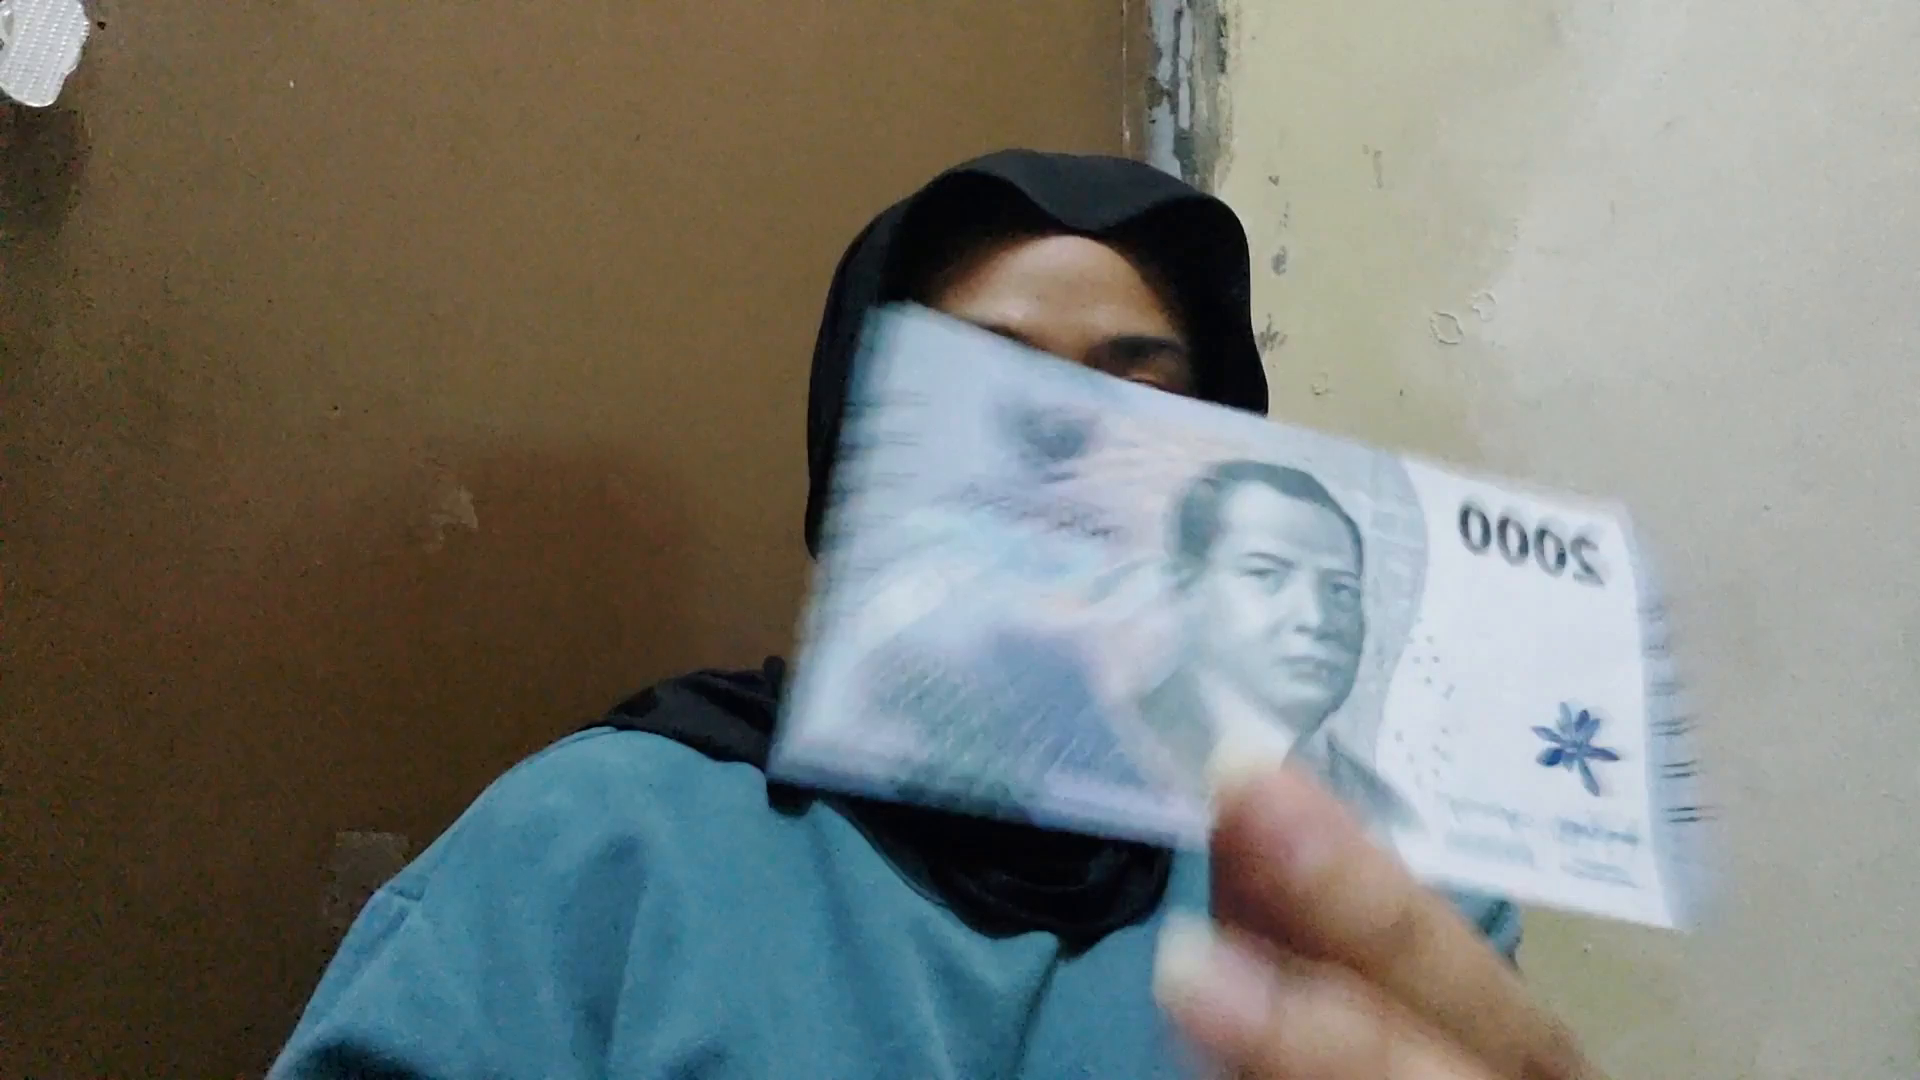2k: (881, 326, 1816, 769)
